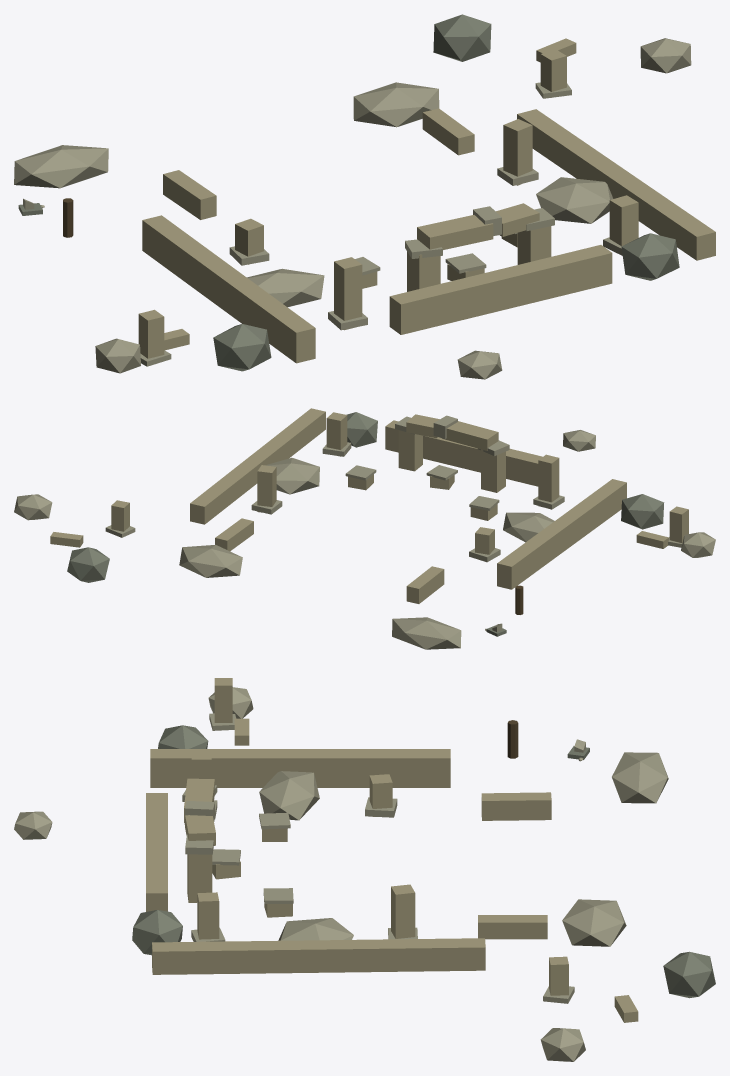
Rendered from side_forgotten_trial_solid_props.fbx.
The picture shows the model from 3 angles, top to bottom: view 1: azimuth 30°, elevation 25°; view 2: azimuth 150°, elevation 25°; view 3: azimuth 270°, elevation 25°; orthographic projection. The views are drawn at different scales.
Visible parts, largest first — view 1: chunk_side_forgotten_trial__PropsSolid; view 2: chunk_side_forgotten_trial__PropsSolid; view 3: chunk_side_forgotten_trial__PropsSolid.
Part boxes in pixels (x1,y1,x2,y2): chunk_side_forgotten_trial__PropsSolid: (14,14,715,379); chunk_side_forgotten_trial__PropsSolid: (14,408,715,649); chunk_side_forgotten_trial__PropsSolid: (14,678,715,1061).
Size of the model in its own units: 234 by 26.31 by 192.
